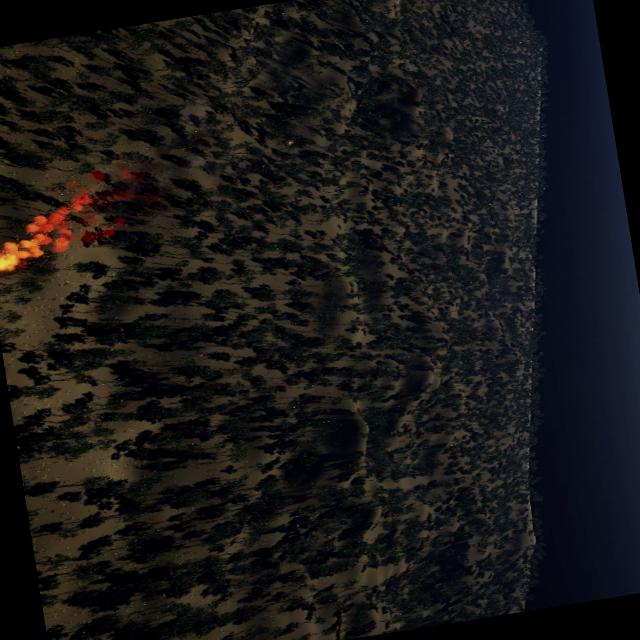fire: (0, 161, 167, 277), (284, 140, 294, 148)
